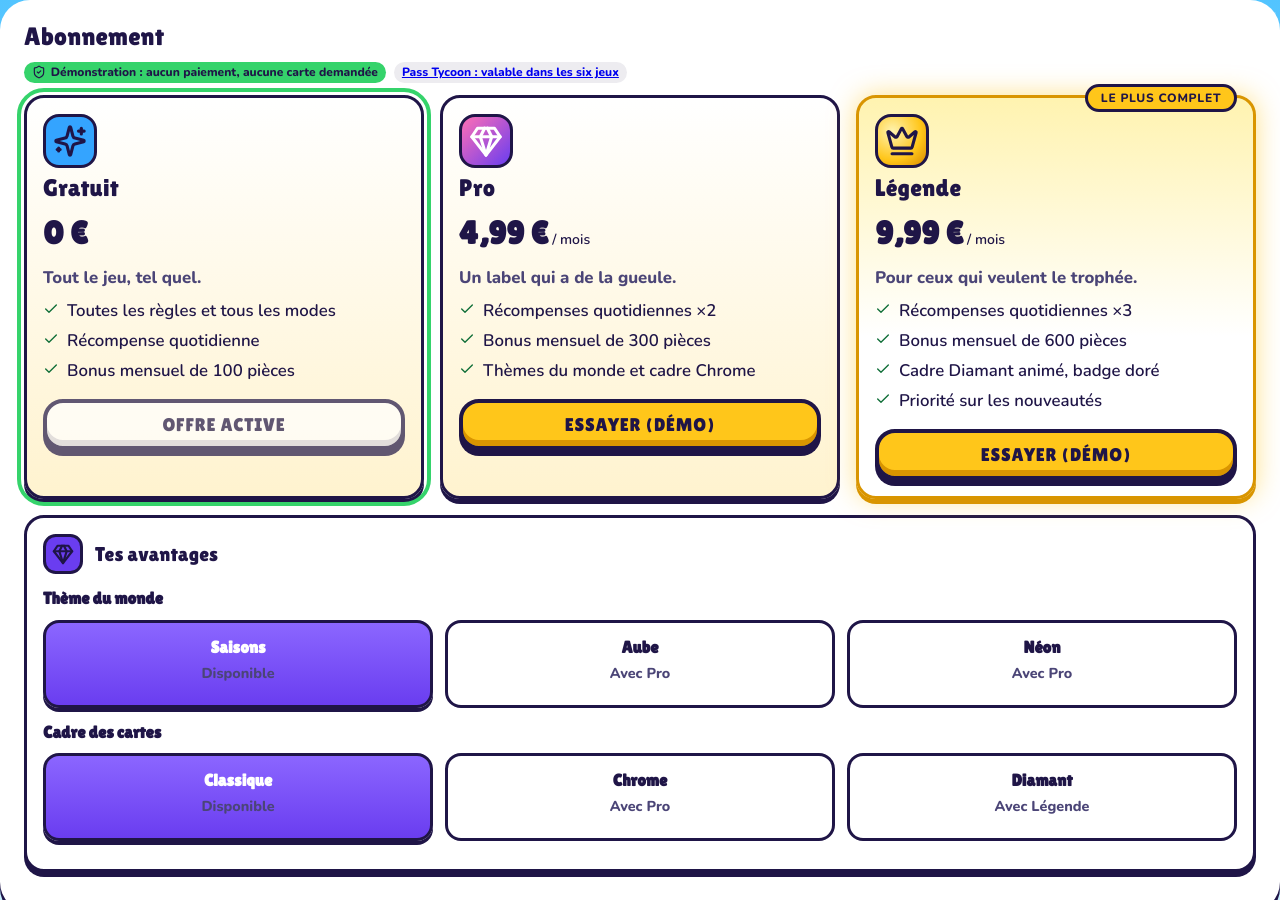
it: abonnement fictif › active une offre sans paiement après confirmation, puis débloque thèmes et cadres
Expected: the text "Démonstration : aucun paiement, aucune carte demandée" is shown, [24,62,386,83]
Expected: the button "Néon Avec Pro" is disabled, [847,620,1237,708]
Step 1. Click the button with aria-label "Choisir l’offre Pro" → click(640, 425), box [459,399,821,450]
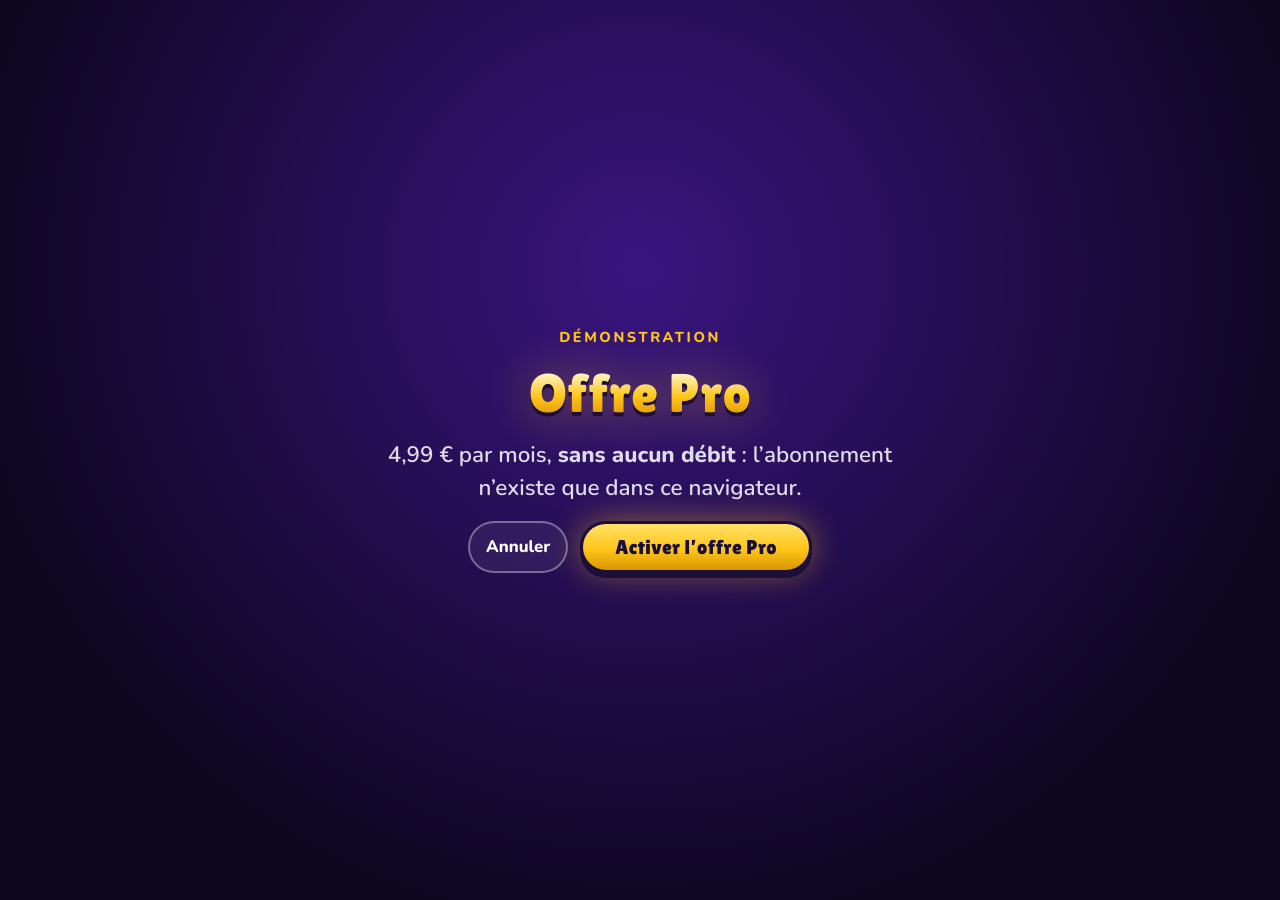
Expected: the dialog named "Confirmer l’abonnement" shows "sans aucun débit", [558,439,736,470]
Step 2. Click the button "Activer l’offre Pro" → click(696, 547), box [580,521,812,573]
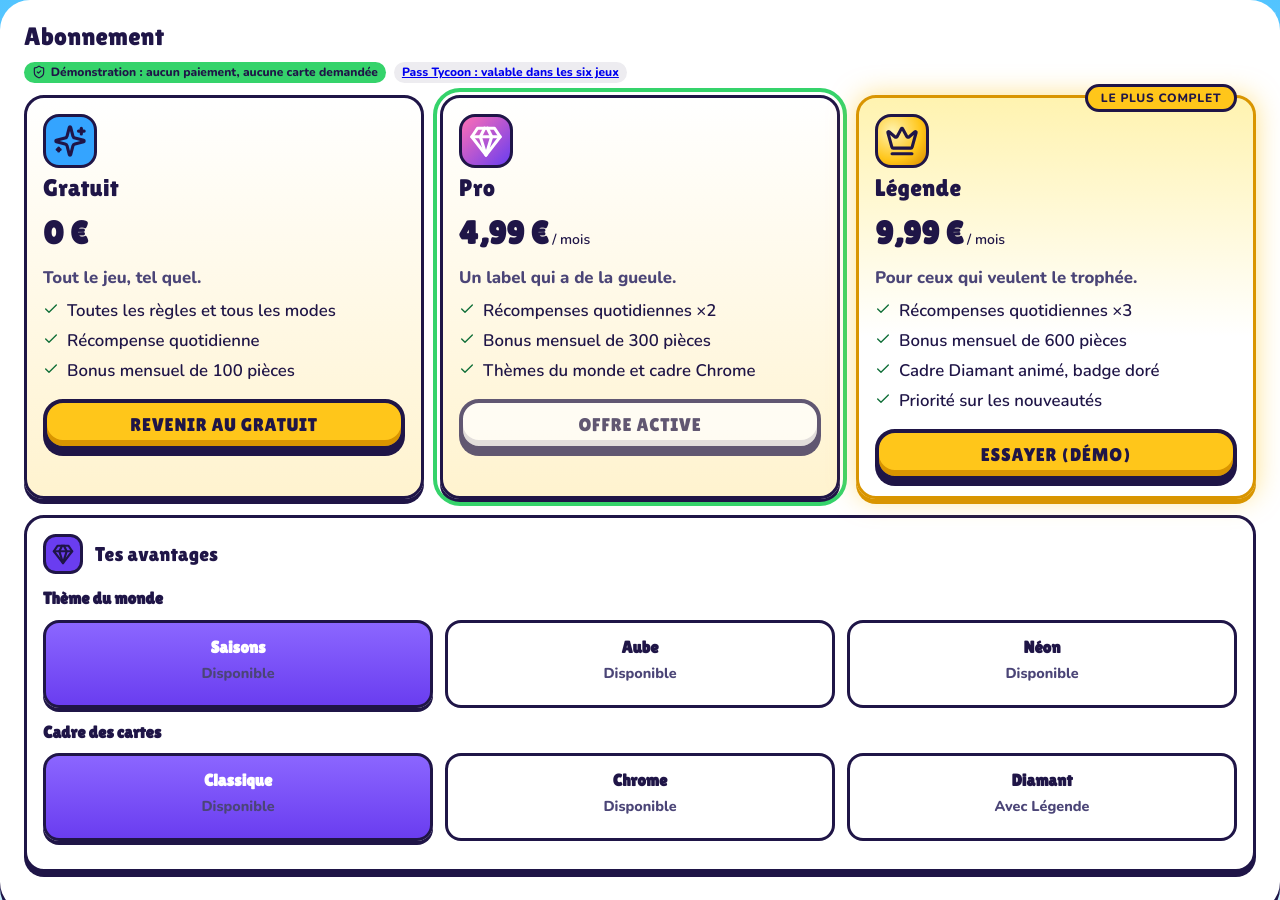
Expected: the button with aria-label "Offre Pro active" is shown, [459,399,821,450]
Expected: the button "Néon Disponible" is enabled
Step 3. Click the button "Néon Disponible" → click(1042, 664), box [847,620,1237,708]
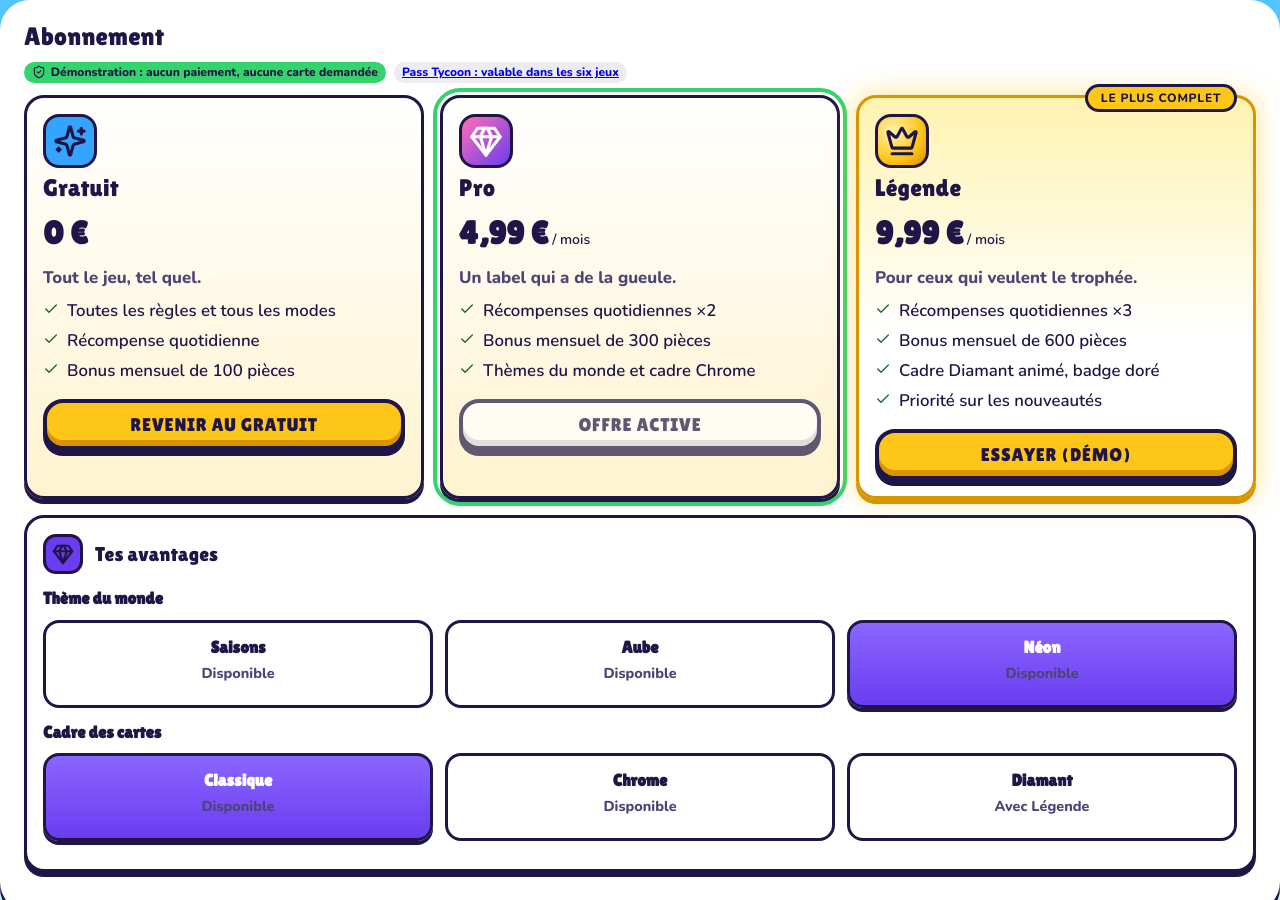
Expected: the button "Néon Disponible" is pressed, [847,620,1237,708]
Step 4. Click the button with aria-label "Choisir l’offre Gratuit" → click(224, 425), box [43,399,405,450]
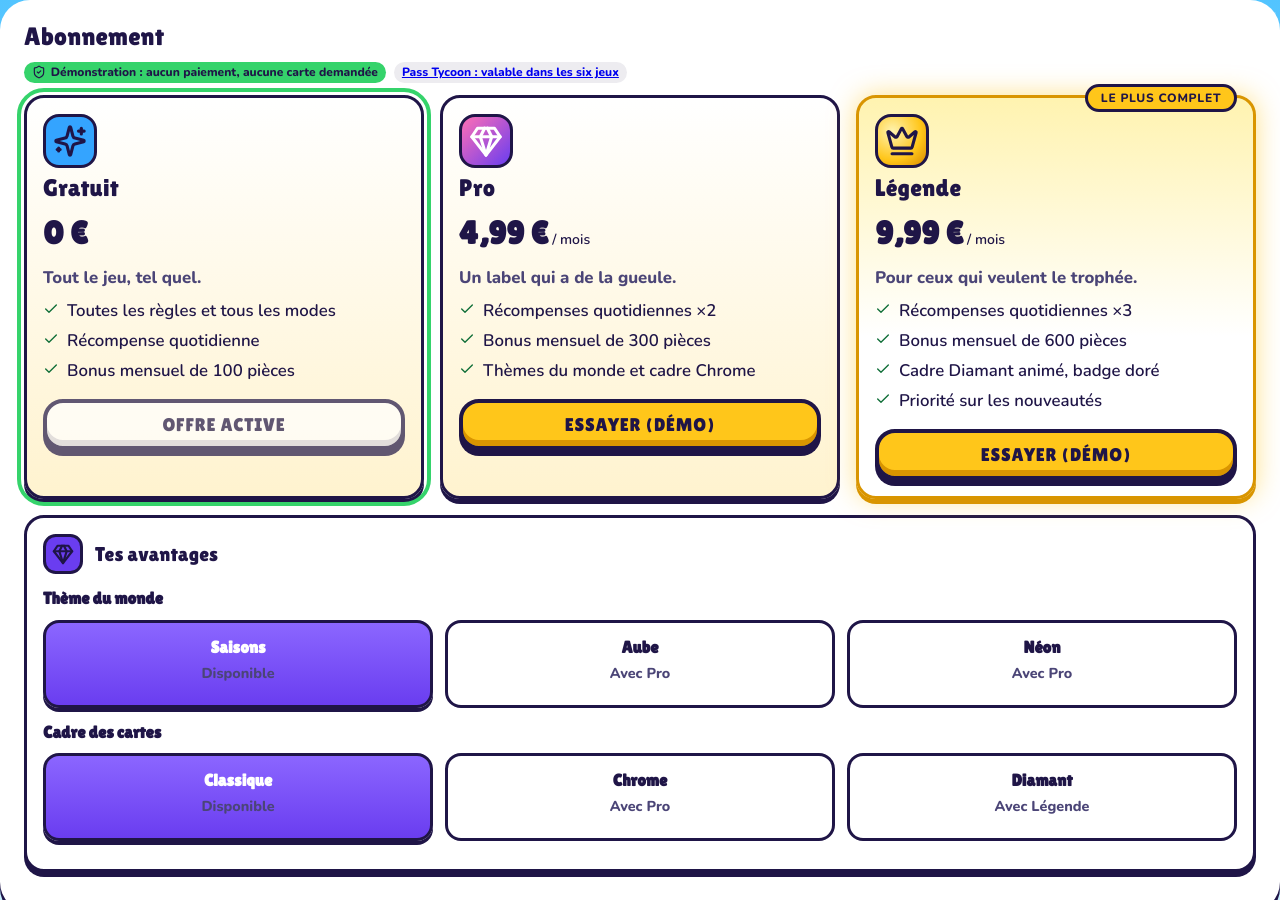
Expected: the button with aria-label "Offre Gratuit active" is shown, [43,399,405,450]
